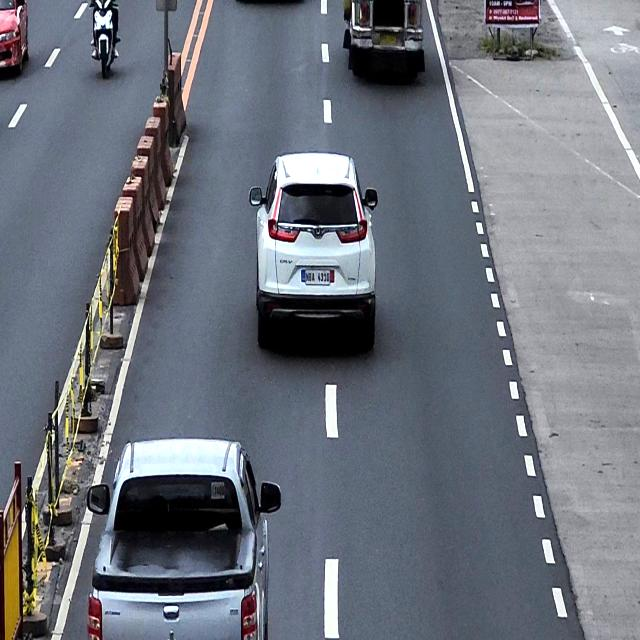Car: (86, 438, 281, 640), (248, 150, 378, 351), (0, 0, 29, 84)
Jeep: (342, 0, 425, 90)
License-Plate: (301, 266, 335, 286), (379, 32, 398, 46)
Motorcycle: (88, 0, 121, 79)
